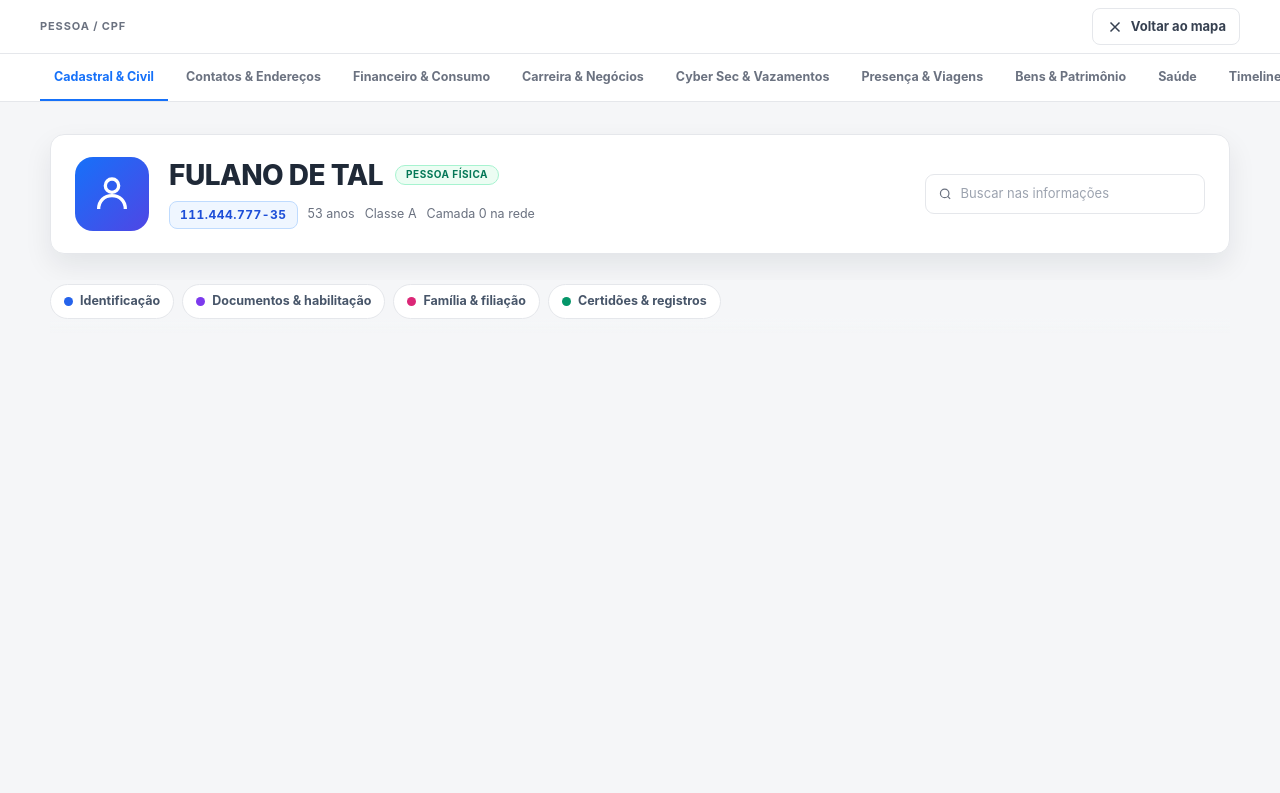
EntityDetail — pessoa em tela cheia com o dicionário de campos › a aba "Contatos & Endereços" traz a visão geral calculada e os dois domínios
Click the button "Contatos & Endereços" at [254, 77], box [172,54,335,101]
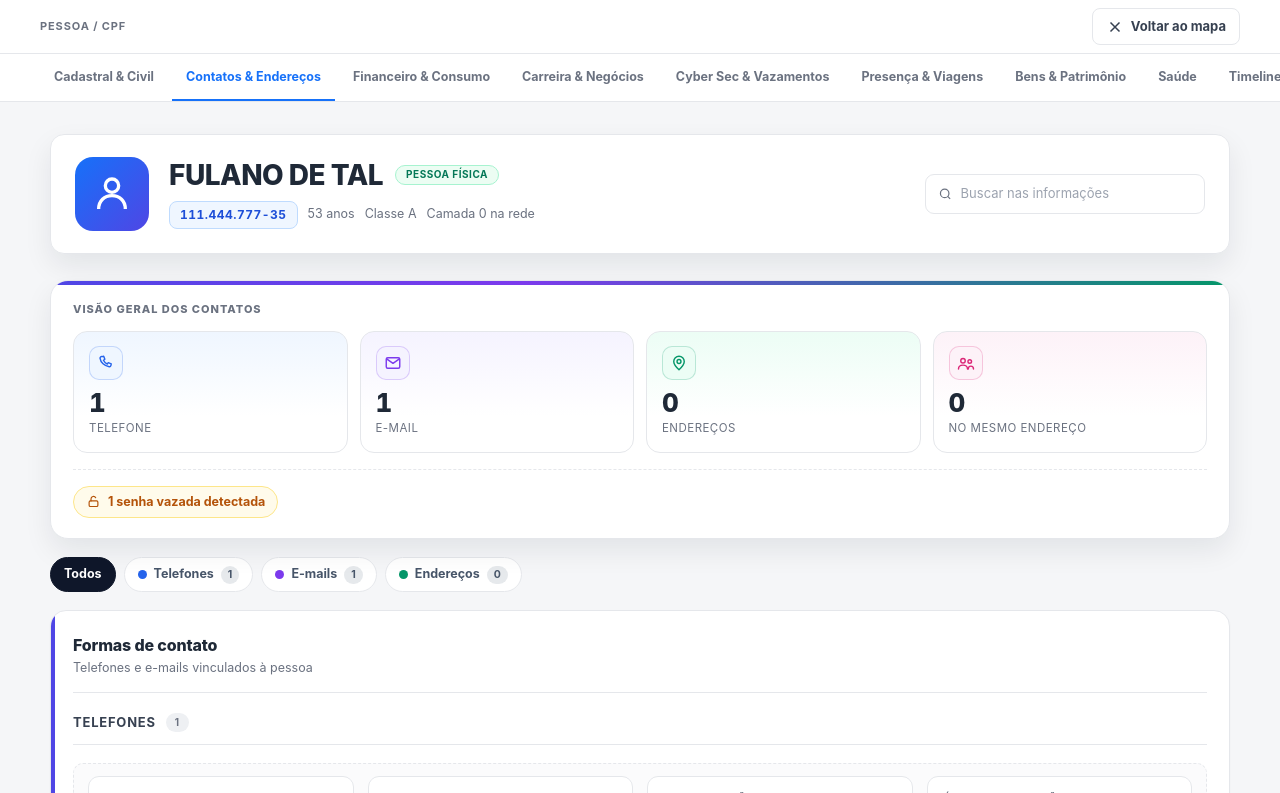
Expected: the text "Visão geral dos contatos" is shown, [73,302,262,316]
Expected: the heading "Formas de contato" is shown, [73,635,217,655]
Expected: the button "Telefones 1" is shown, [124,557,253,592]
